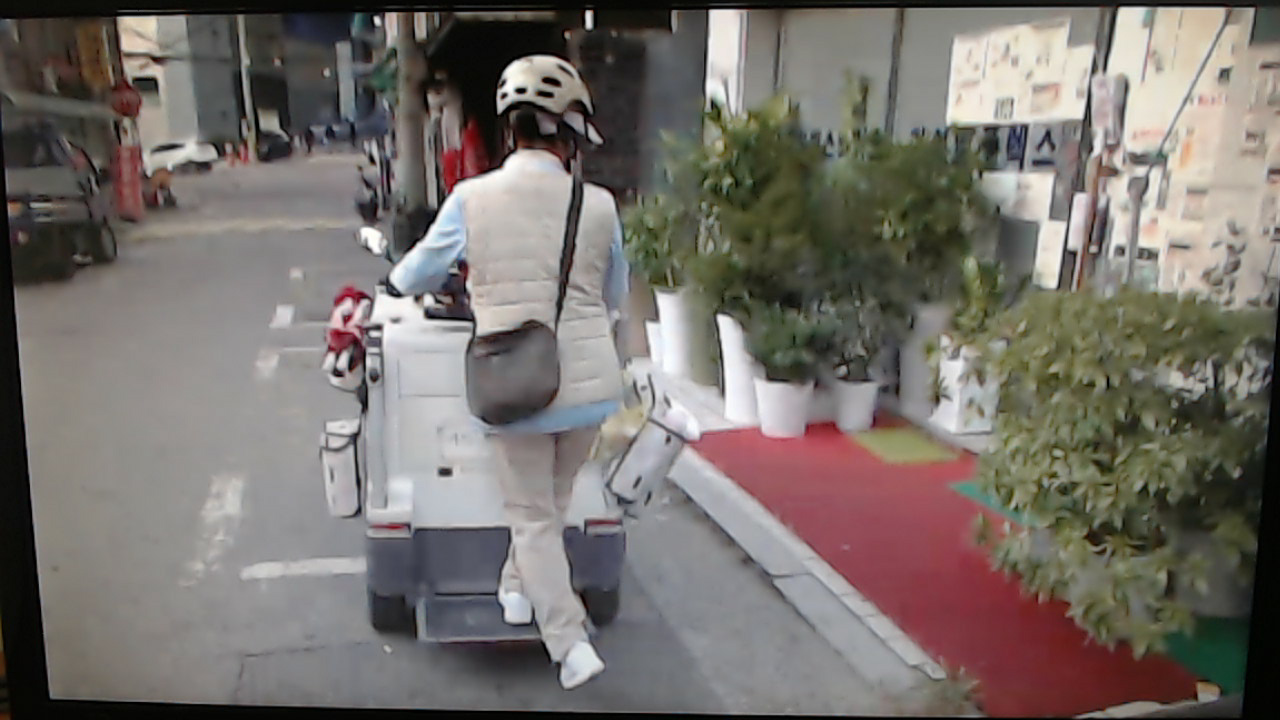Yakurut: (372, 40, 677, 709)
